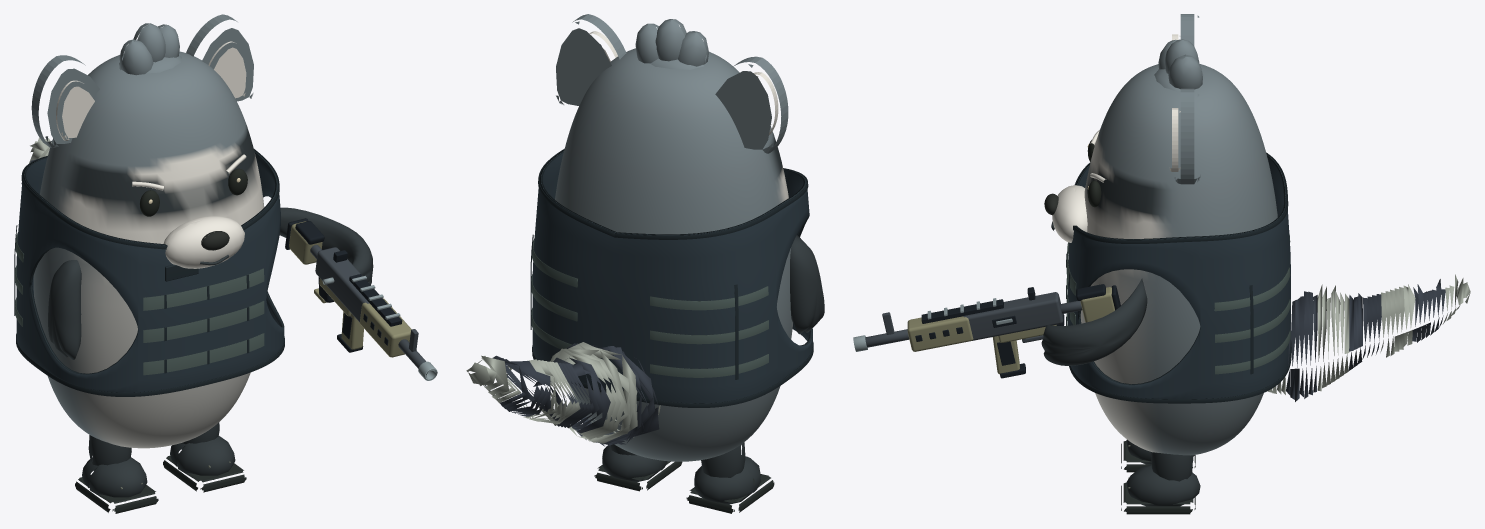
File: species-grips-raccoon-ready-preview.glb
3 views of the same model, side by side, from view 1: azimuth 30°, elevation 25°; view 2: azimuth 150°, elevation 25°; view 3: azimuth 270°, elevation 25° (orthographic). The views are drawn at different scales.
Parts seen in each view (by area): view 1: raccoon_torso_mesh, raccoon_vest_refined_mesh, raccoon_leftFoot_mesh, raccoon_leftEar_mesh, raccoon_snout_mesh, raccoon_rightFoot_mesh, raccoon_rightEar_mesh, prop_m4_m4 painted furniture, raccoon_leftArm_mesh, raccoon_crestShort_mesh, prop_m4_Cerakote graphite, raccoon_rightArm_mesh (+2 smaller); view 2: raccoon_vest_refined_mesh, raccoon_torso_mesh, raccoon_tail_mesh, raccoon_leftEar_mesh, raccoon_leftFoot_mesh, raccoon_rightEar_mesh, raccoon_crestShort_mesh, raccoon_leftArm_mesh, raccoon_rightFoot_mesh; view 3: raccoon_torso_mesh, raccoon_vest_refined_mesh, raccoon_tail_mesh, raccoon_rightArm_mesh, raccoon_rightFoot_mesh, prop_m4_Cerakote graphite, prop_m4_m4 painted furniture, prop_m4_Recesses and rubber, raccoon_rightEar_mesh, raccoon_crestShort_mesh, raccoon_snout_mesh, raccoon_leftFoot_mesh.
Boxes of the visible parts, x1,y1,x2,y2 form: raccoon_torso_mesh: (33,51,264,448); raccoon_vest_refined_mesh: (14,149,284,396); raccoon_leftFoot_mesh: (75,435,158,513); raccoon_leftEar_mesh: (31,55,99,147); raccoon_snout_mesh: (163,216,244,268); raccoon_rightFoot_mesh: (163,422,246,492); raccoon_rightEar_mesh: (186,14,253,101); prop_m4_m4 painted furniture: (289,221,411,357); raccoon_leftArm_mesh: (48,260,81,359); raccoon_crestShort_mesh: (119,23,181,75); prop_m4_Cerakote graphite: (310,245,425,368); raccoon_rightArm_mesh: (279,207,373,284); raccoon_vest_refined_mesh: (530,149,813,407); raccoon_torso_mesh: (555,48,792,461); raccoon_tail_mesh: (466,342,660,446); raccoon_leftEar_mesh: (715,56,788,153); raccoon_leftFoot_mesh: (686,442,774,513); raccoon_rightEar_mesh: (556,14,626,105); raccoon_crestShort_mesh: (635,19,708,69); raccoon_leftArm_mesh: (790,235,824,334); raccoon_rightFoot_mesh: (594,444,682,491); raccoon_torso_mesh: (1080,64,1277,455); raccoon_vest_refined_mesh: (1066,152,1291,403); raccoon_tail_mesh: (1268,274,1470,401); raccoon_rightArm_mesh: (1041,278,1147,365); raccoon_rightFoot_mesh: (1121,452,1200,514); prop_m4_Cerakote graphite: (865,292,1082,347); prop_m4_m4 painted furniture: (907,287,1114,374); prop_m4_Recesses and rubber: (915,284,1120,378); raccoon_rightEar_mesh: (1169,88,1200,184); raccoon_crestShort_mesh: (1154,39,1204,91); raccoon_snout_mesh: (1044,185,1087,242); raccoon_leftFoot_mesh: (1121,439,1195,472).
Bounding box in the file's own units: 1.3 × 1.98 × 2.49.
